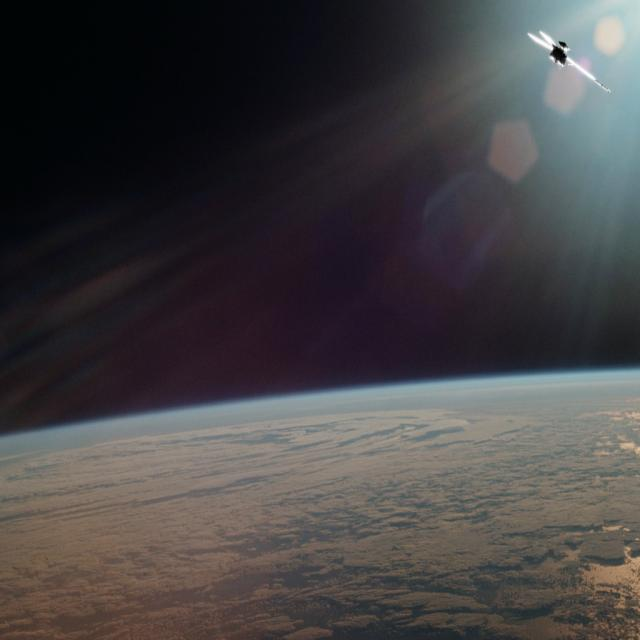satellite: (517, 20, 618, 102)
